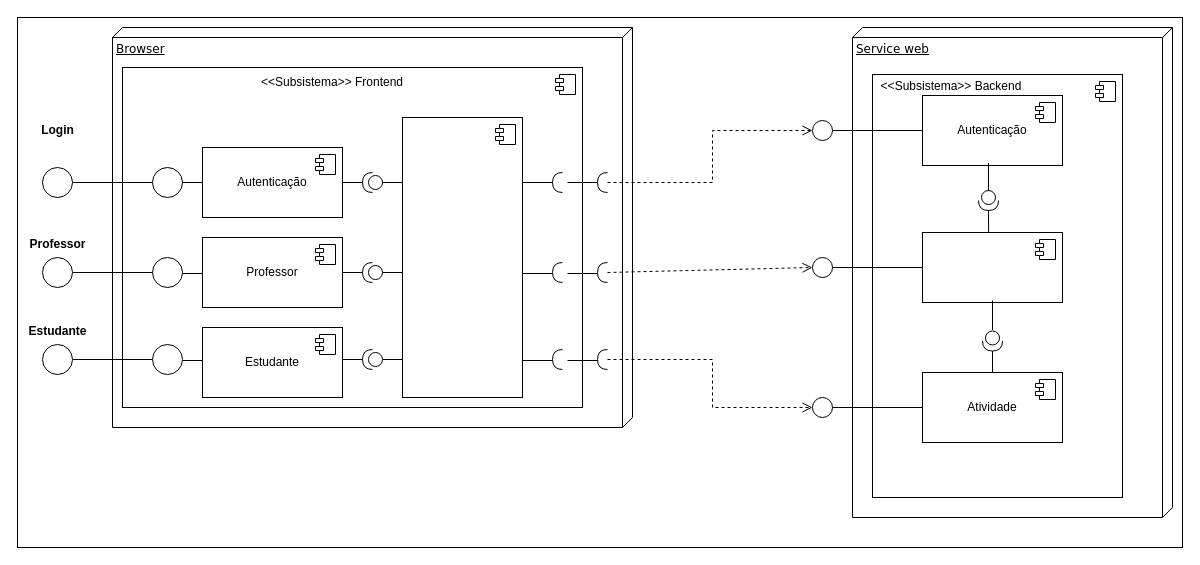
Some shapes in this 1200 by 565 pixel diagram are drawn without their labels. The shapes that lost their labels are listed below. From the top down, each one's centre as x and y in pixels, then its label:
the point at 462,257: Handler
the point at 992,267: Turma
